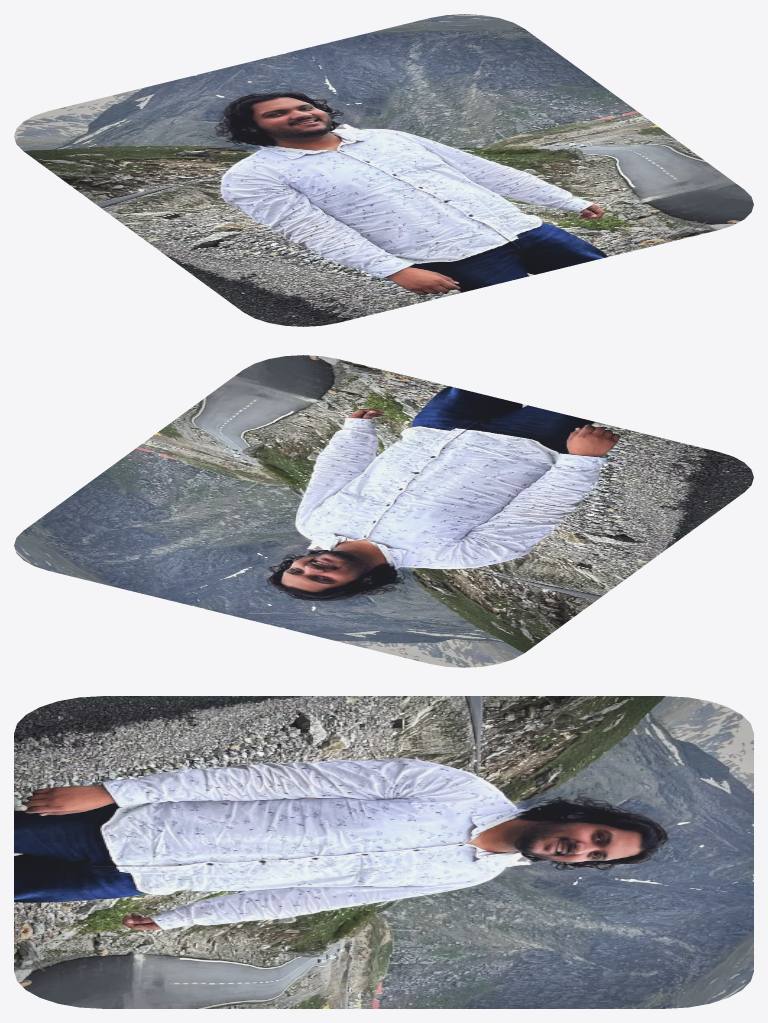
Rendered from shayan.gltf.
3 renders of one model, top to bottom at view 1: azimuth 30°, elevation 25°; view 2: azimuth 150°, elevation 25°; view 3: azimuth 270°, elevation 25°, orthographic. The views are drawn at different scales.
Parts seen in each view (by area): view 1: My image2.003; view 2: My image2.003; view 3: My image2.003.
Boxes of the visible parts, x1,y1,x2,y2 form: My image2.003: [14, 14, 753, 326]; My image2.003: [14, 355, 753, 667]; My image2.003: [14, 696, 753, 1008].
Size of the model in its own units: 1 by 0 by 1.
1 material, 1 textured.
